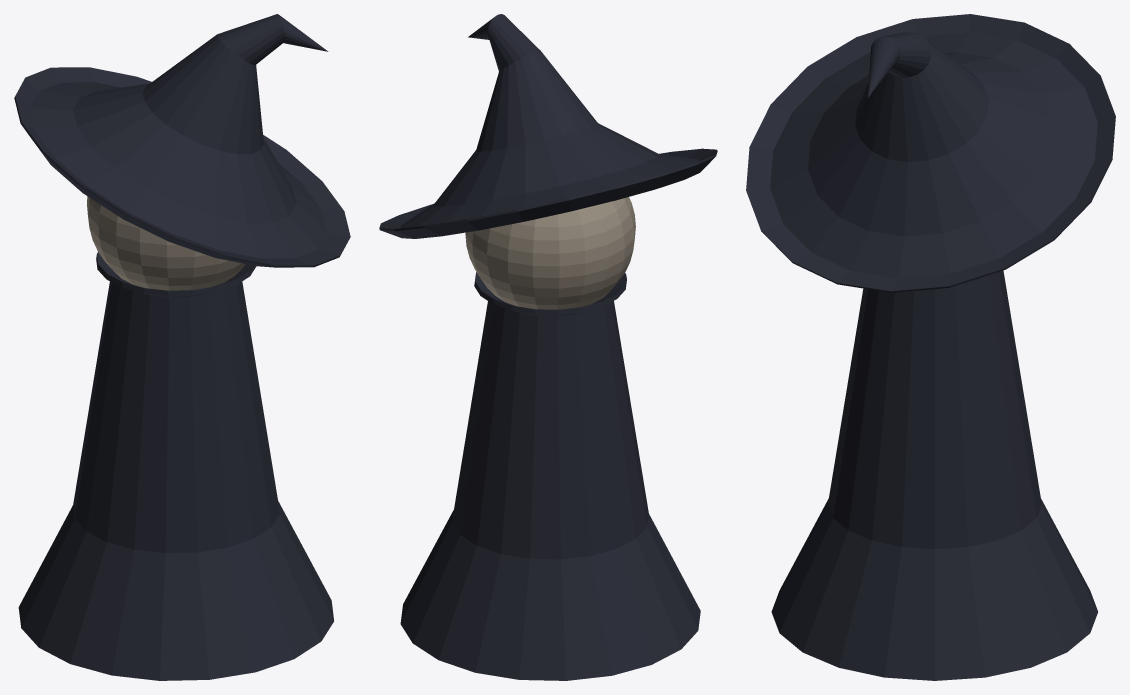
Rendered from PlayerPiece.fbx.
3 renders of one model, left to right at view 1: azimuth 30°, elevation 25°; view 2: azimuth 150°, elevation 25°; view 3: azimuth 270°, elevation 25°, orthographic. The views are drawn at different scales.
Parts seen in each view (by area): view 1: pSphere1, pCylinder1; view 2: pSphere1, pCylinder1; view 3: pSphere1, pCylinder1.
Part boxes in pixels (x1=…): pSphere1: x1=18, y1=196, x2=333, y2=680; pCylinder1: x1=14, y1=14, x2=350, y2=267; pSphere1: x1=400, y1=197, x2=700, y2=680; pCylinder1: x1=379, y1=14, x2=717, y2=238; pSphere1: x1=771, y1=270, x2=1097, y2=680; pCylinder1: x1=746, y1=14, x2=1115, y2=292.
Size of the model in its own units: 3.81 by 7.31 by 3.99.
